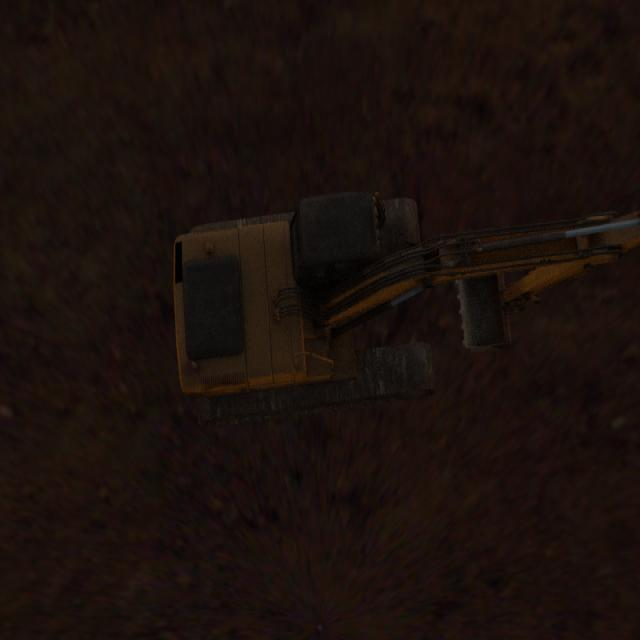excavator: (173, 189, 640, 427)
